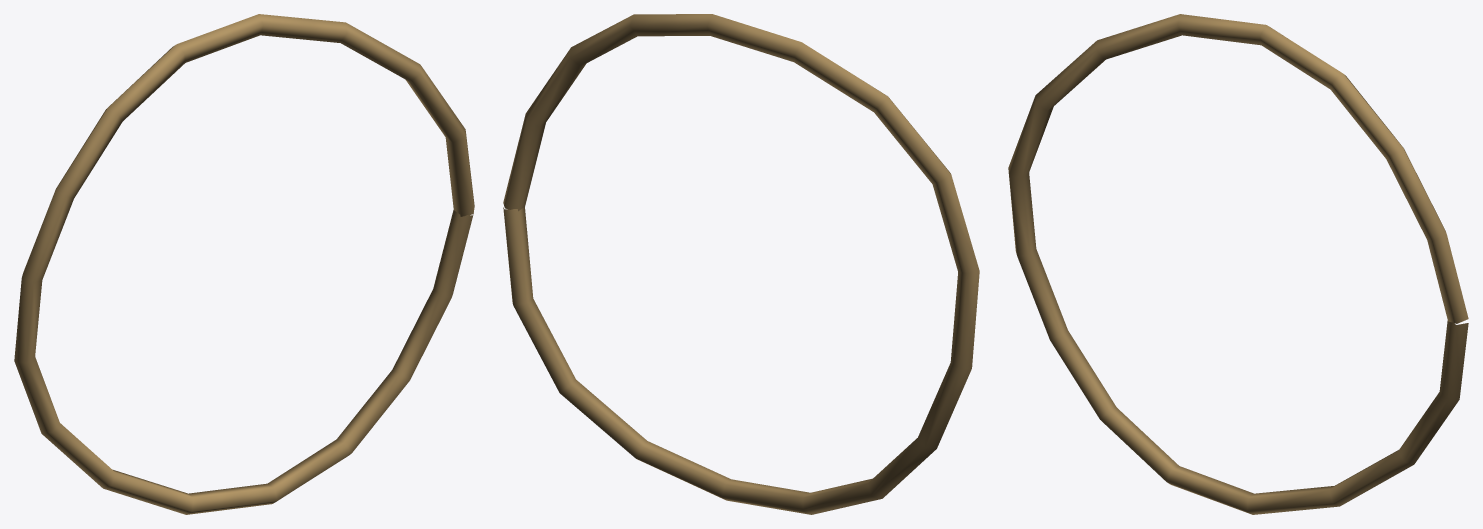
Rendered from lasso.glb.
3 renders of one model, left to right at view 1: azimuth 30°, elevation 25°; view 2: azimuth 150°, elevation 25°; view 3: azimuth 330°, elevation 25°, orthographic. The views are drawn at different scales.
Visible parts, largest first — view 1: lasso; view 2: lasso; view 3: lasso.
Boxes of the visible parts, x1,y1,x2,y2 form: lasso: (14, 14, 474, 514); lasso: (503, 14, 979, 514); lasso: (1008, 14, 1468, 514).
Bounding box in the file's own units: 0.3727 × 0.3744 × 0.0351.
1 material, 1 textured.
